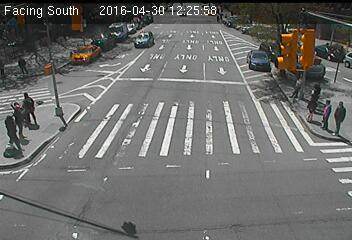neg: (180, 71, 210, 110), (311, 186, 337, 220), (220, 136, 243, 167), (125, 163, 145, 190), (47, 185, 67, 211), (144, 120, 164, 146), (89, 80, 108, 105), (126, 68, 144, 93), (71, 39, 88, 61), (256, 132, 273, 154), (242, 55, 258, 76), (132, 27, 146, 46), (234, 18, 245, 32), (177, 13, 187, 27)
pos: (301, 82, 331, 123), (3, 99, 31, 137), (326, 99, 351, 138), (314, 96, 339, 130), (289, 73, 309, 100), (11, 54, 28, 76)
